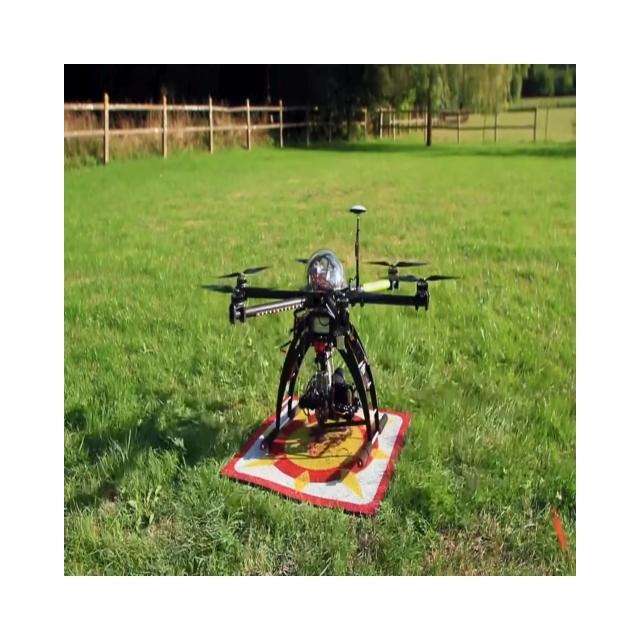drone: (197, 203, 460, 460)
